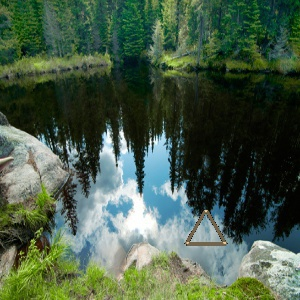triangle: (183, 207, 229, 250)
